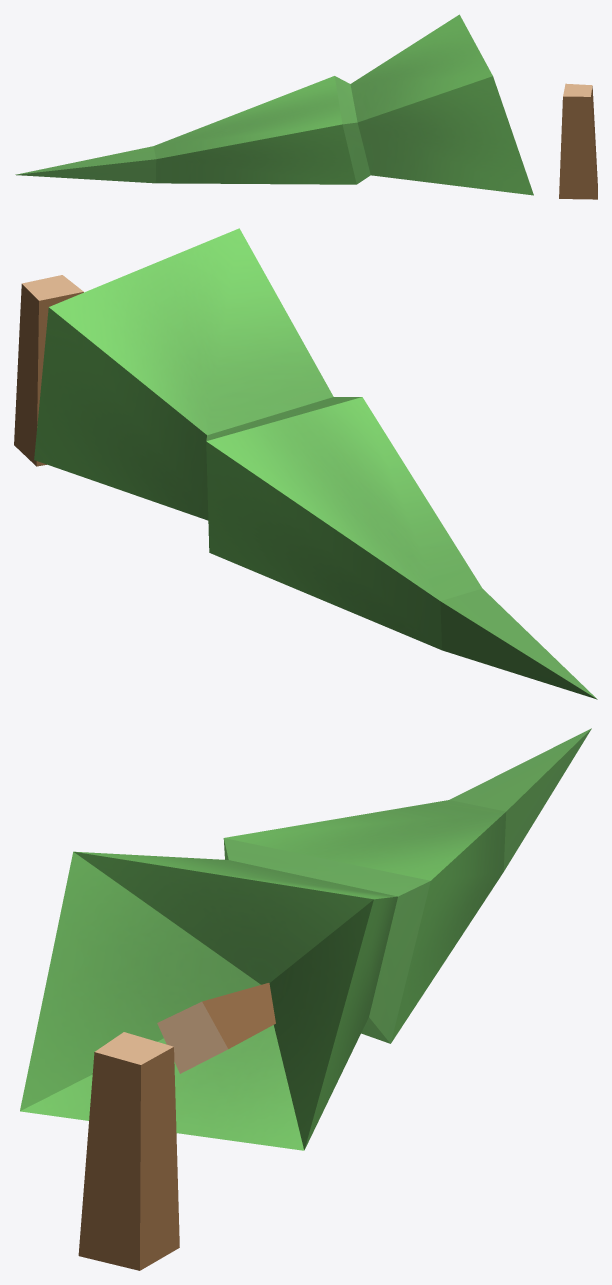
Rendered from Fir_Tree_crk_s_03_LOD.fbx.
3 renders of one model, top to bottom at view 1: azimuth 30°, elevation 25°; view 2: azimuth 150°, elevation 25°; view 3: azimuth 270°, elevation 25°, orthographic. The views are drawn at different scales.
Visible parts, largest first — view 1: Fir_Tree_crk_s_03_LOD0; view 2: Fir_Tree_crk_s_03_LOD0; view 3: Fir_Tree_crk_s_03_LOD0.
Boxes of the visible parts, x1=… form: Fir_Tree_crk_s_03_LOD0: x1=15, y1=14, x2=597, y2=199; Fir_Tree_crk_s_03_LOD0: x1=14, y1=228, x2=597, y2=699; Fir_Tree_crk_s_03_LOD0: x1=20, y1=728, x2=591, y2=1270.
Size of what is drawn, in the model's own units: 140 by 42.78 by 73.81.
